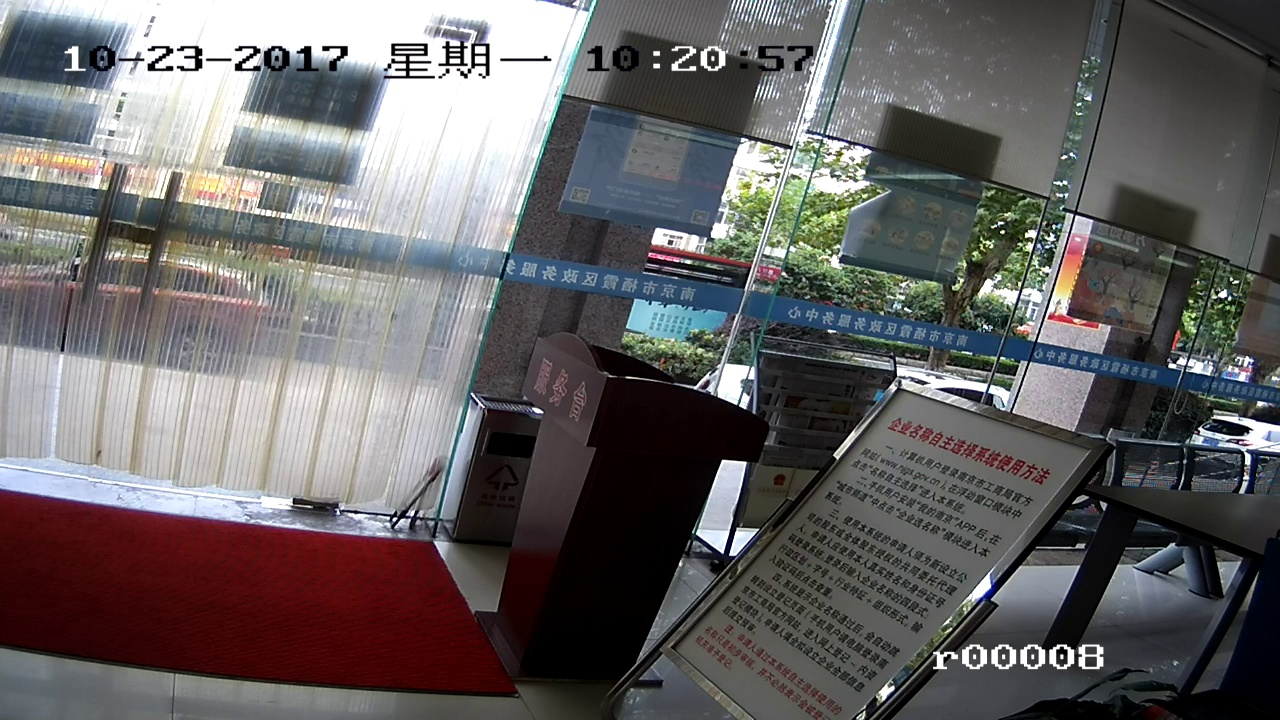billboard: (760, 379, 1039, 702)
desk: (533, 343, 672, 674)
